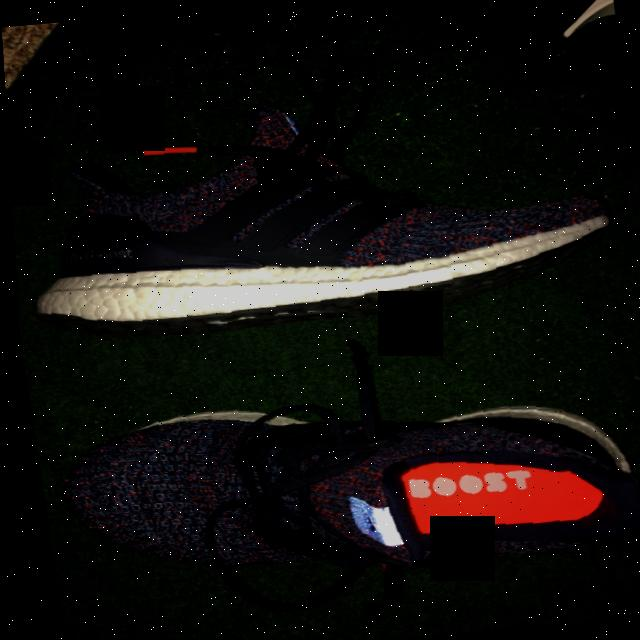shoe: (2, 36, 640, 366), (18, 317, 640, 631)
